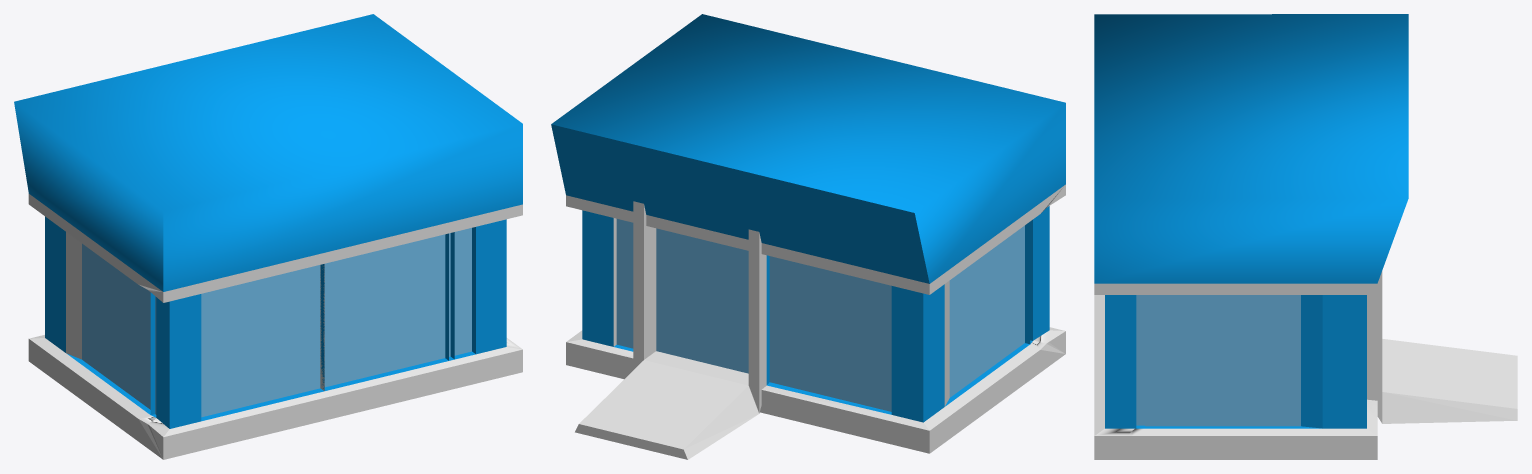
The model's file is Shop3x2x2Blue.fbx.
The picture shows the model from 3 angles, left to right: view 1: azimuth 30°, elevation 25°; view 2: azimuth 150°, elevation 25°; view 3: azimuth 270°, elevation 25°; orthographic projection. The views are drawn at different scales.
Parts seen in each view (by area): view 1: Shop.002; view 2: Shop.002; view 3: Shop.002.
Part boxes in pixels (x1,y1,x2,y2): Shop.002: (14,14,522,459); Shop.002: (551,14,1065,459); Shop.002: (1094,14,1517,459).
Size of the model in its own units: 3 by 1.98 by 2.91.
1 material, 1 textured.
